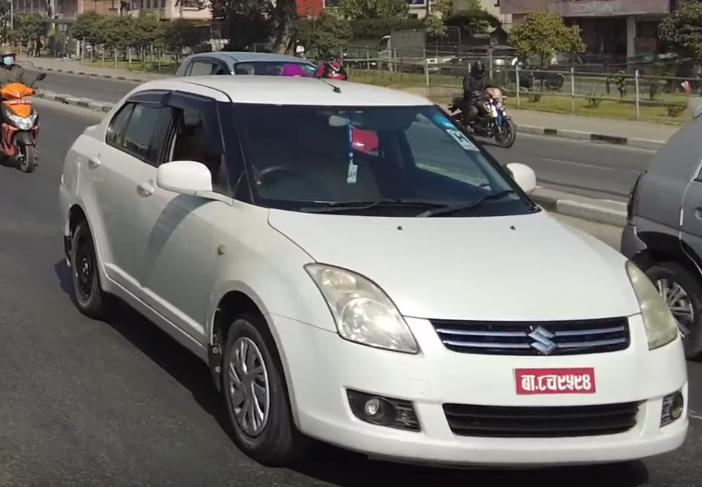bike: (449, 84, 516, 151)
car: (55, 73, 702, 459)
scooter: (0, 69, 51, 173)
